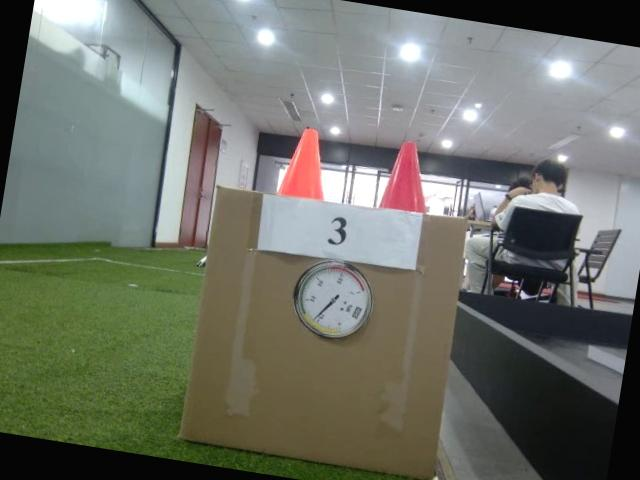3: (326, 213, 349, 248)
Dashboard: (283, 254, 379, 346)
orange_barrel: (274, 123, 338, 203)
red_barrel: (376, 137, 438, 216)
ssi: (351, 302, 362, 320)
